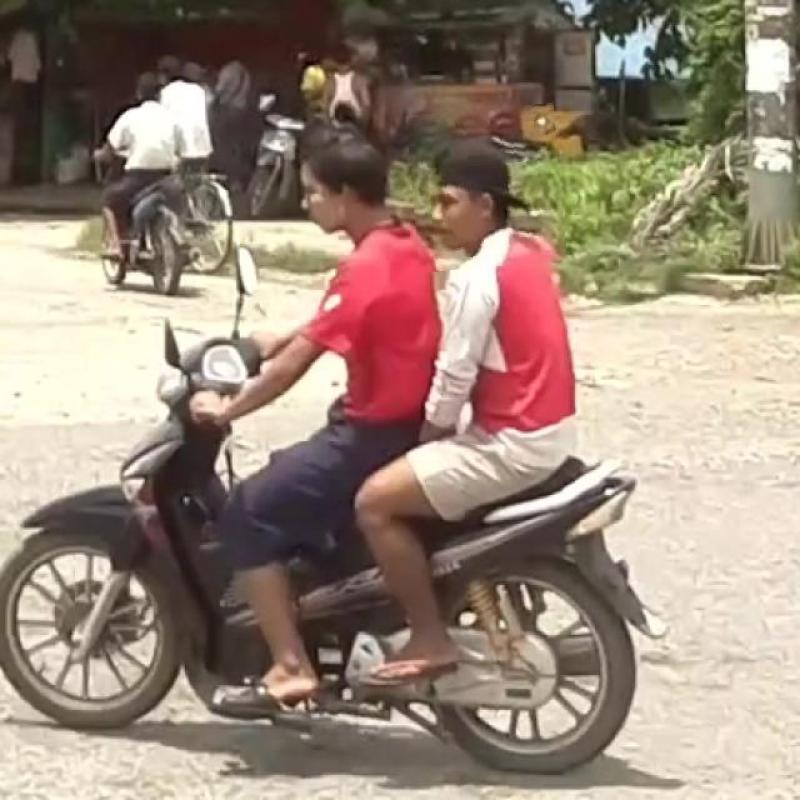nohelmet: (410, 106, 564, 270), (284, 123, 400, 258)
